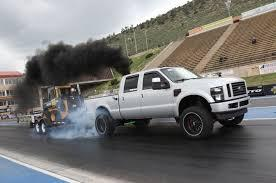smoke: (30, 57, 121, 67)
